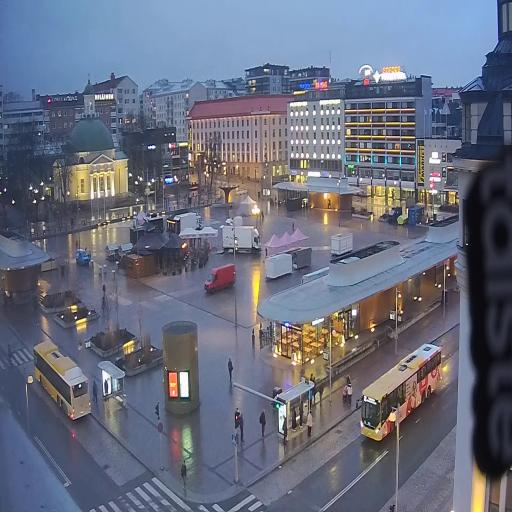bus: (357, 333, 446, 450), (31, 335, 95, 426)
delivery: (220, 222, 264, 256), (200, 262, 240, 297), (74, 245, 92, 270), (224, 211, 246, 231)
